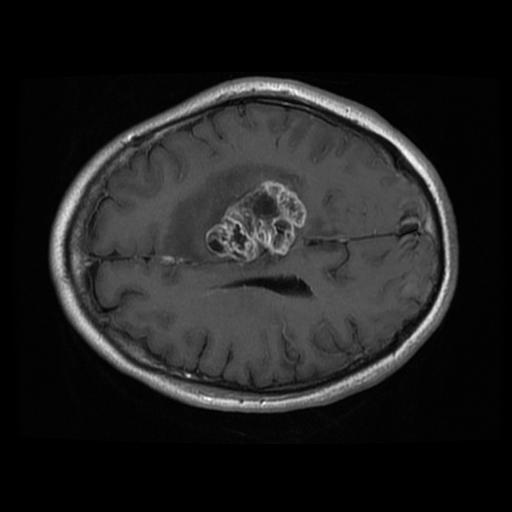glioma: (155, 165, 307, 287)
